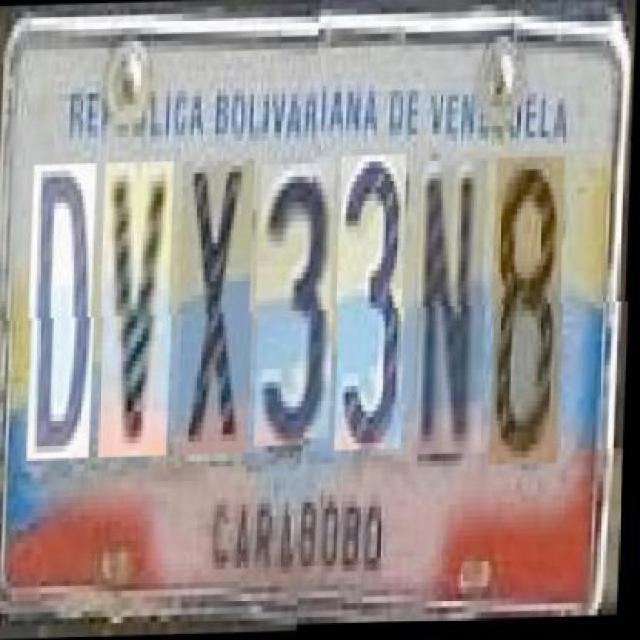3: (257, 165, 340, 448), (337, 162, 411, 460)
8: (492, 167, 570, 476)
d: (30, 164, 101, 461)
n: (416, 167, 492, 464)
v: (102, 162, 178, 458)
x: (179, 159, 259, 456)
